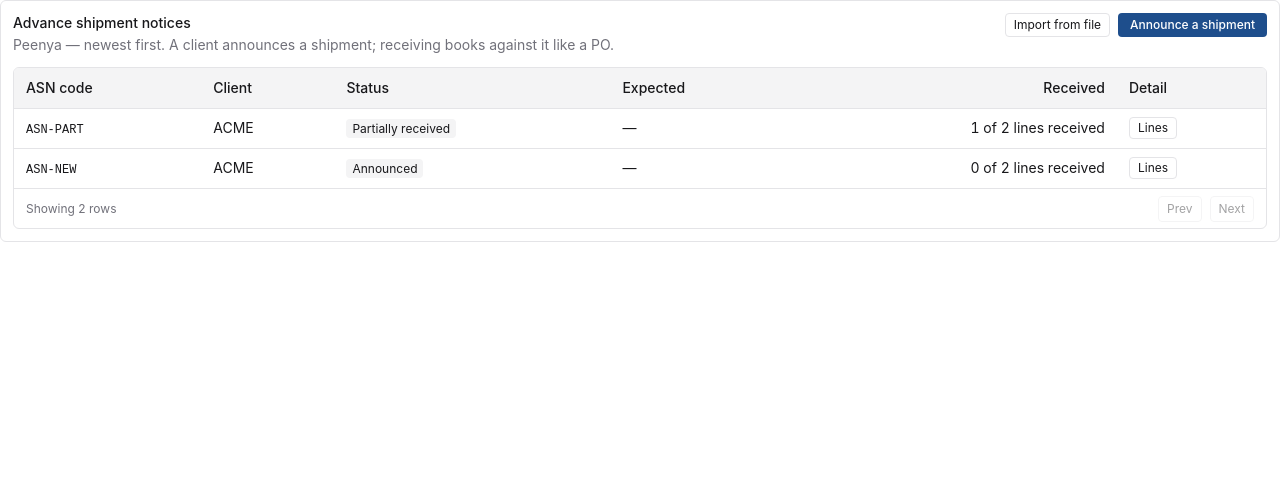
AsnsCard › the amend picker still offers an inactive SKU already on a line
Click the button "Lines" in the row of "ASN-NEW". click: {"x": 1153, "y": 168}
box: x1=1129 y1=157 x2=1177 y2=179
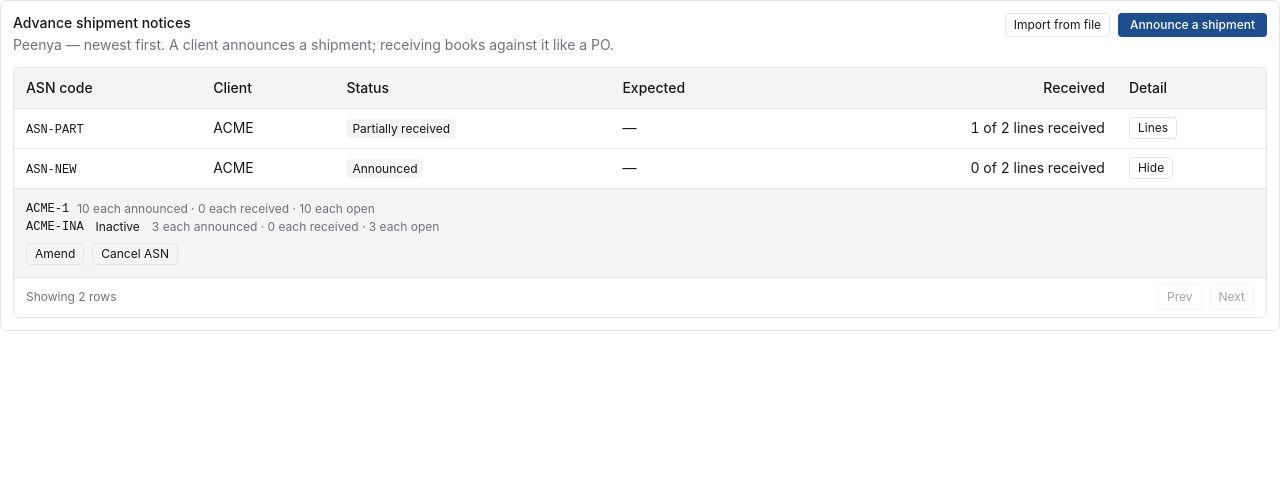
Expected: the button "Amend" is shown
Click the button "Amend". click: {"x": 55, "y": 254}
box: x1=26 y1=242 x2=84 y2=264
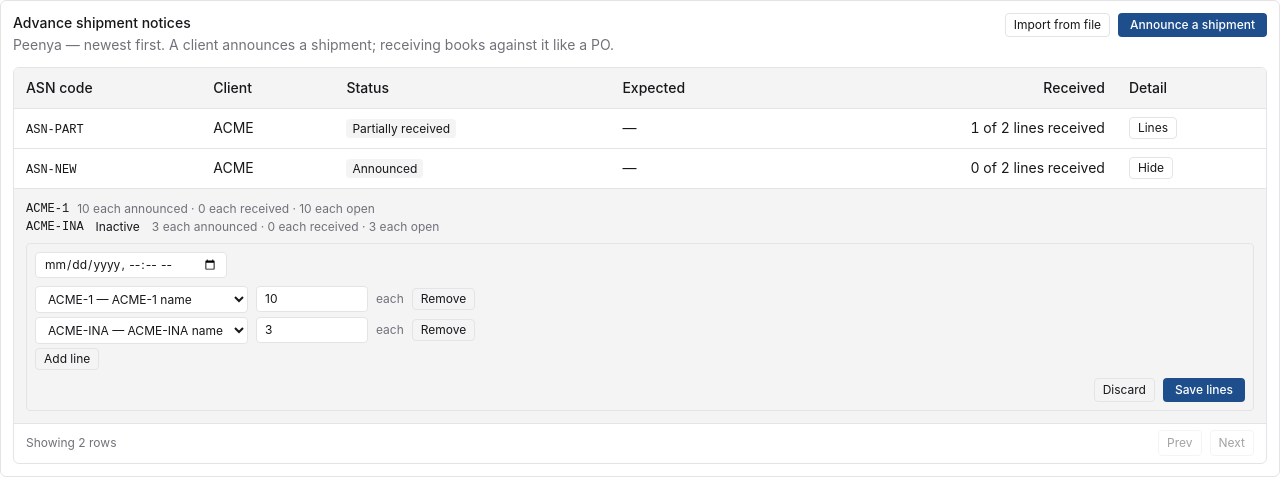
Expected: the dropdown named "Line 2 SKU" shows "ACME-INA — ACME-INA name", x1=35 y1=316 x2=248 y2=344
